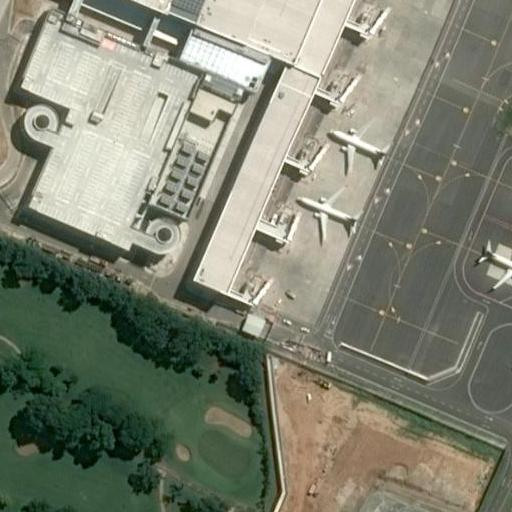Aircraft: (296, 184, 361, 242), (327, 116, 391, 174), (476, 231, 512, 289)
